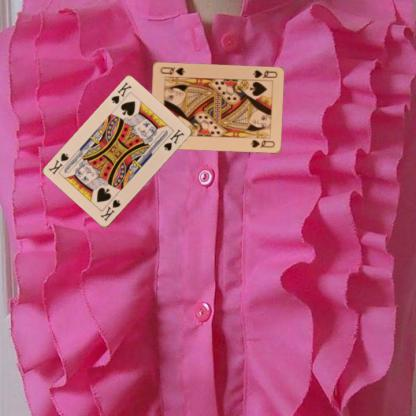Ks: (98, 197, 122, 222), (109, 80, 133, 105)
Qs: (251, 68, 278, 79)
